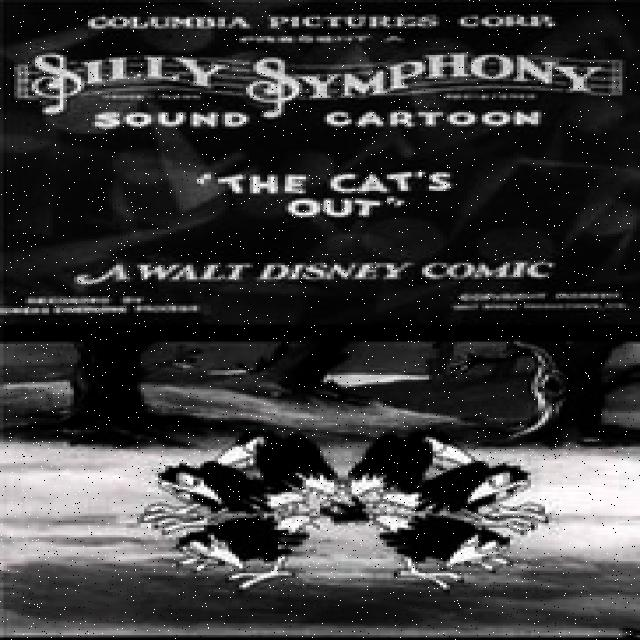movie-judul: (179, 163, 470, 224)
picture: (0, 341, 640, 640)
